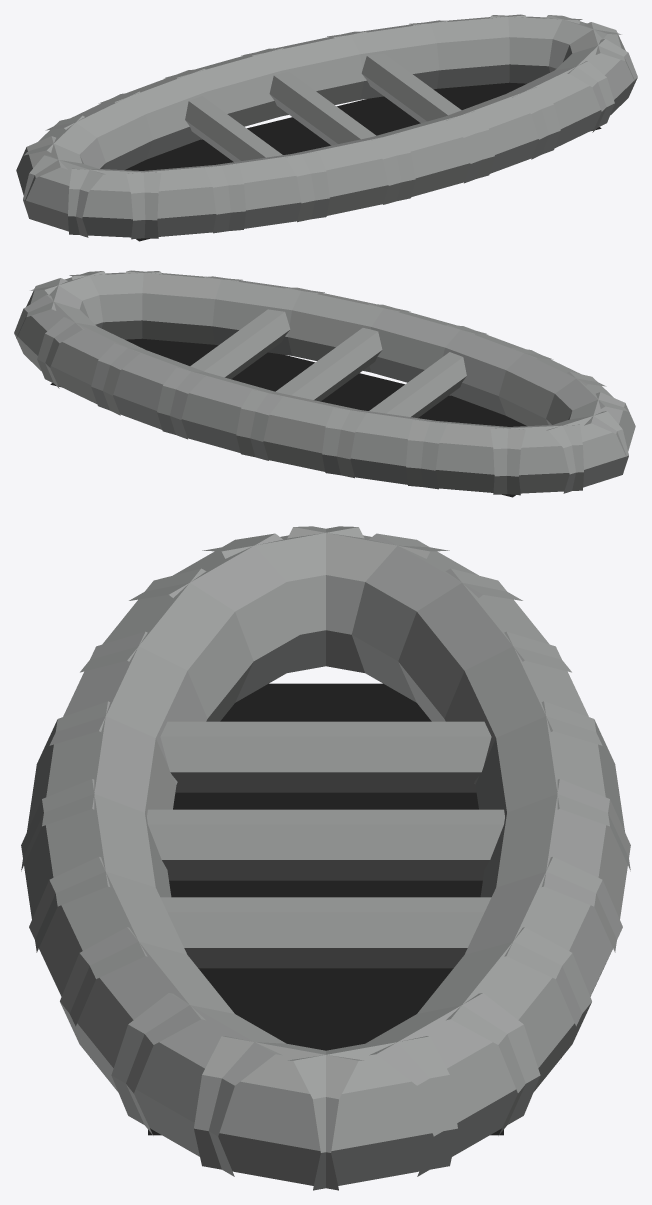
Rendered from town_raft 2.gltf.
3 renders of one model, top to bottom at view 1: azimuth 30°, elevation 25°; view 2: azimuth 150°, elevation 25°; view 3: azimuth 270°, elevation 25°, orthographic. The views are drawn at different scales.
Parts seen in each view (by area): view 1: TownRaft_Tubes, TownRaft_Floor; view 2: TownRaft_Tubes, TownRaft_Floor; view 3: TownRaft_Tubes, TownRaft_Floor.
Part boxes in pixels (bbox=[...]): TownRaft_Tubes: bbox=[16, 14, 637, 239]; TownRaft_Floor: bbox=[125, 82, 601, 241]; TownRaft_Tubes: bbox=[14, 270, 635, 495]; TownRaft_Floor: bbox=[50, 338, 526, 497]; TownRaft_Tubes: bbox=[21, 526, 630, 1190]; TownRaft_Floor: bbox=[148, 683, 503, 1135].
Size of what is drawn, in the model's own units: 4.7 by 0.4801 by 2.05.
1 material, 1 textured.
